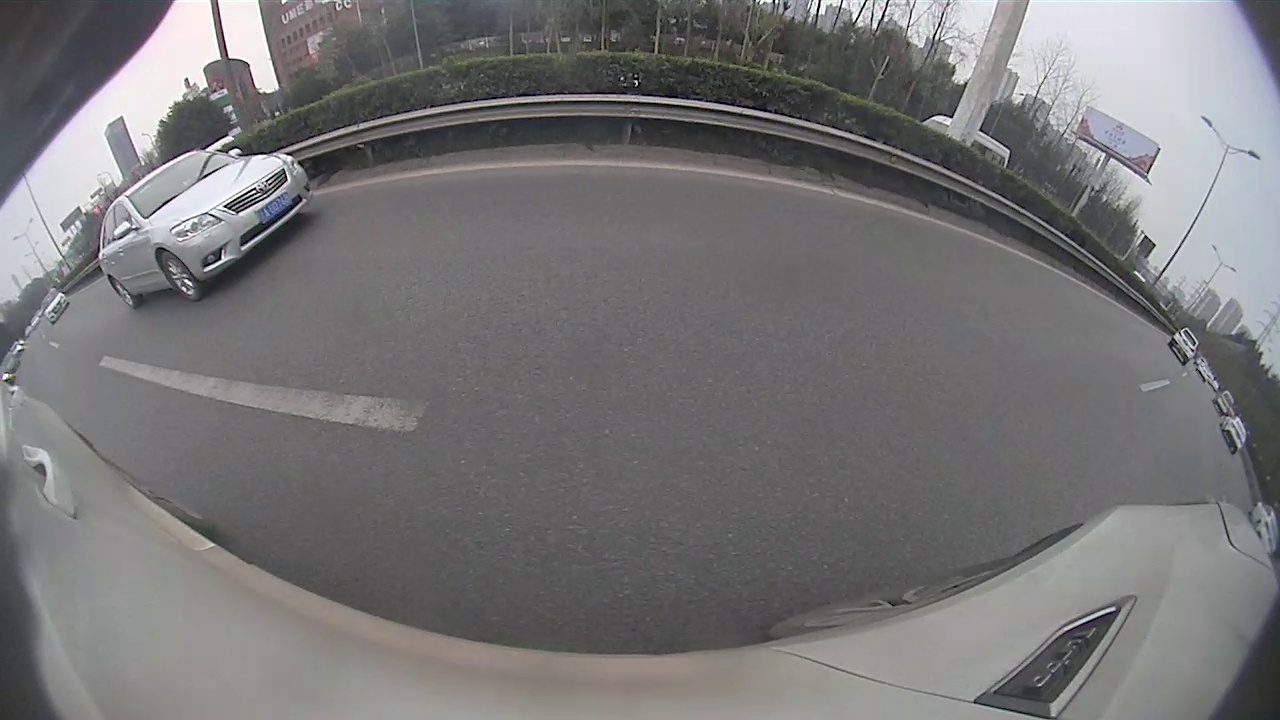car: (97, 148, 312, 308), (1168, 326, 1202, 367), (1220, 414, 1248, 455)
front: (157, 248, 207, 302)
rear: (109, 277, 145, 309)
